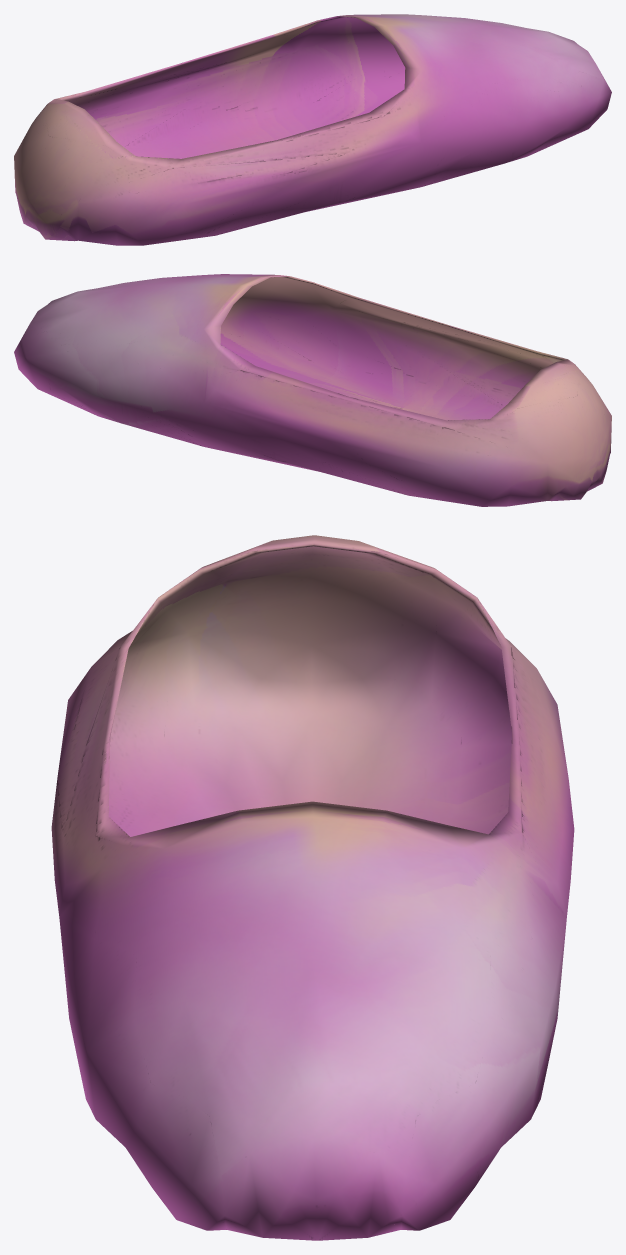
The model's file is bucik.fbx.
3 renders of one model, top to bottom at view 1: azimuth 30°, elevation 25°; view 2: azimuth 150°, elevation 25°; view 3: azimuth 270°, elevation 25°, orthographic. The views are drawn at different scales.
Visible parts, largest first — view 1: SketchUp; view 2: SketchUp; view 3: SketchUp.
Boxes of the visible parts, left/top/right/bottom form: SketchUp: left=14, top=14, right=611, bottom=245; SketchUp: left=14, top=274, right=611, bottom=506; SketchUp: left=51, top=535, right=574, bottom=1240.
Size of the model in its own units: 337 by 75.71 by 136.
